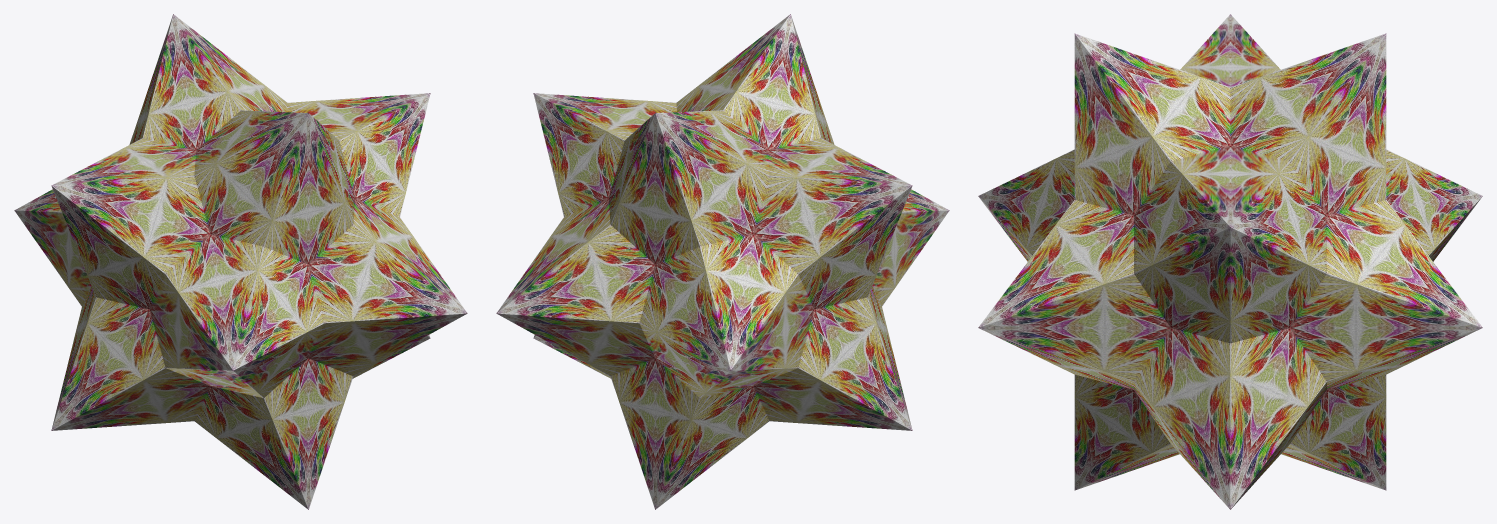
File: MedialRhombicTriacontahedron5.obj
The picture shows the model from 3 angles, left to right: view 1: azimuth 30°, elevation 25°; view 2: azimuth 150°, elevation 25°; view 3: azimuth 270°, elevation 25°; orthographic projection. The views are drawn at different scales.
Bounding box in the file's own units: 2.43 × 2.43 × 2.43.
1 material, 1 textured.
